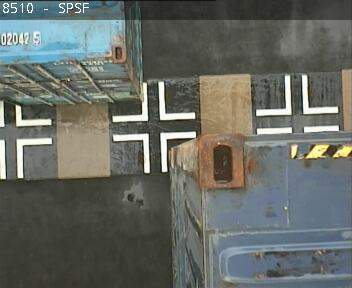groundmarker_1: (112, 131, 196, 173), (111, 82, 194, 124), (256, 74, 339, 116), (14, 103, 52, 178)
